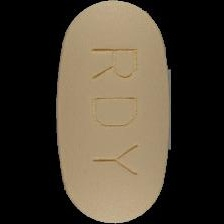54868-6279: (0, 0, 224, 224)
